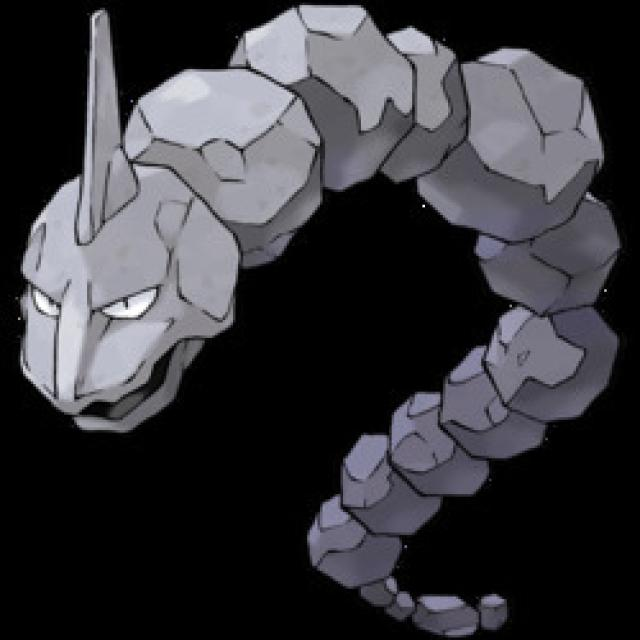Onix: (17, 6, 617, 434)
